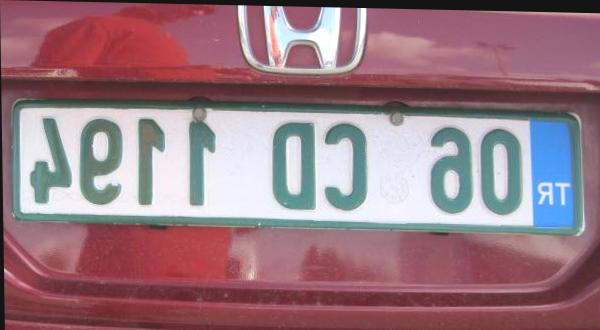License_Plate: (4, 91, 589, 241)
